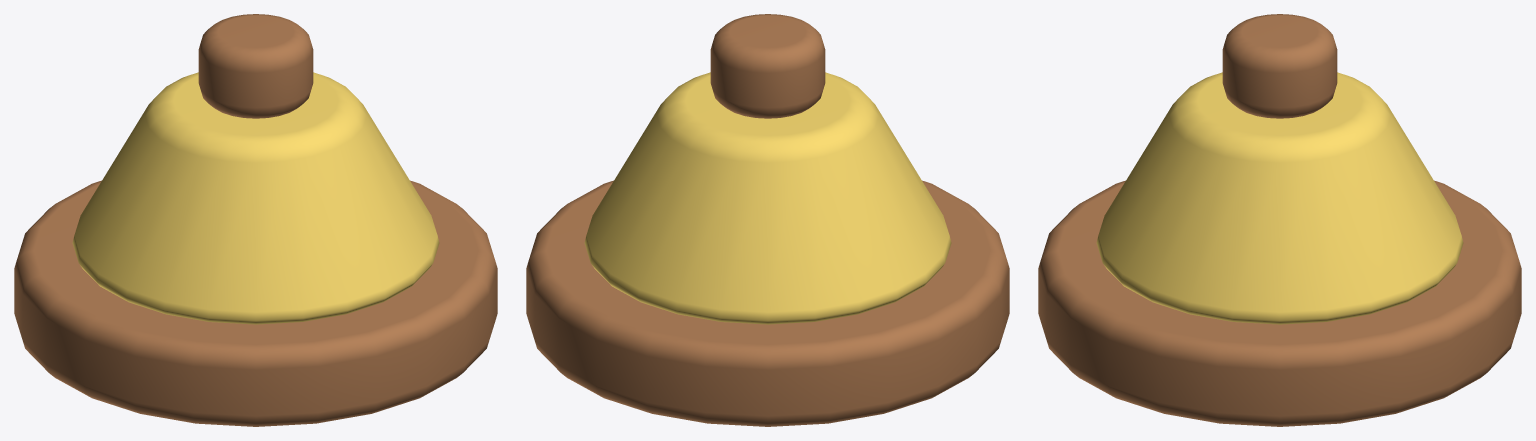
The model's file is desk-bell.glb.
The picture shows the model from 3 angles, left to right: view 1: azimuth 30°, elevation 25°; view 2: azimuth 150°, elevation 25°; view 3: azimuth 270°, elevation 25°; orthographic projection.
Visible parts, largest first — view 1: Bell dome, Bell foot, Bell button; view 2: Bell dome, Bell foot, Bell button; view 3: Bell dome, Bell foot, Bell button.
Boxes of the visible parts, left/top/right/bottom form: Bell dome: left=72, top=72, right=439, bottom=324; Bell foot: left=14, top=180, right=497, bottom=426; Bell button: left=198, top=14, right=313, bottom=118; Bell dome: left=584, top=72, right=951, bottom=324; Bell foot: left=526, top=180, right=1009, bottom=426; Bell button: left=710, top=14, right=825, bottom=118; Bell dome: left=1096, top=72, right=1463, bottom=324; Bell foot: left=1038, top=180, right=1521, bottom=426; Bell button: left=1222, top=14, right=1337, bottom=118.
Size of the model in its own units: 0.38 by 0.26 by 0.38.
